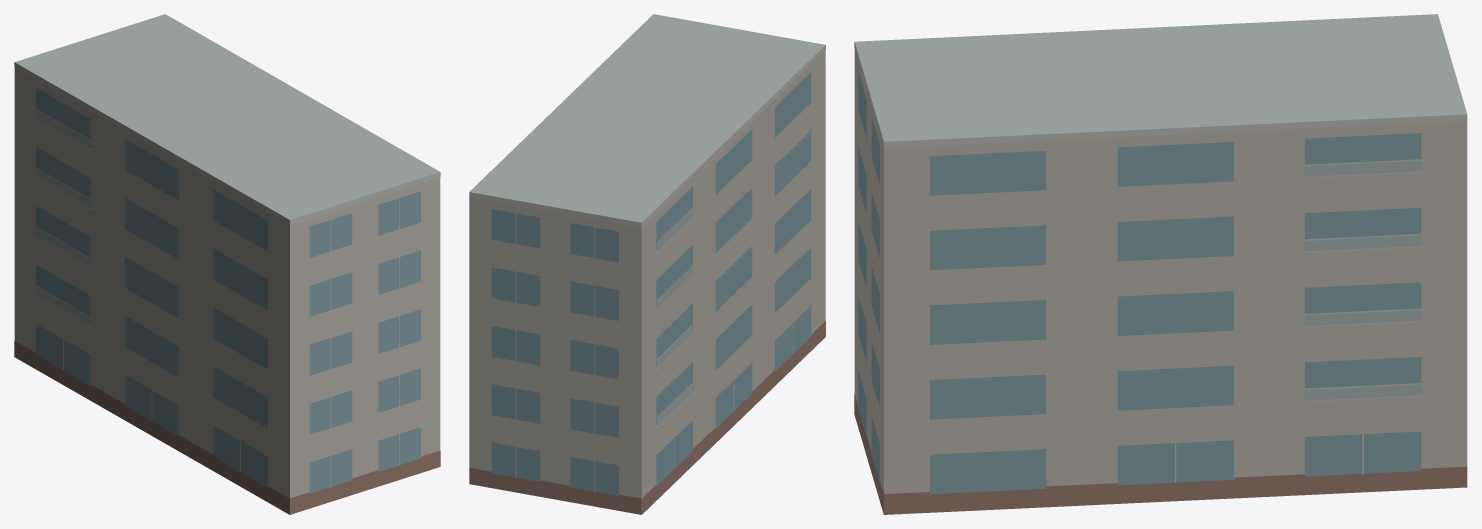
The model's file is survey-upis-32890046.glb.
3 renders of one model, left to right at view 1: azimuth 30°, elevation 25°; view 2: azimuth 150°, elevation 25°; view 3: azimuth 270°, elevation 25°, orthographic. The views are drawn at different scales.
Parts seen in each view (by area): view 1: survey-upis-32890046.tmp; view 2: survey-upis-32890046.tmp; view 3: survey-upis-32890046.tmp.
Part boxes in pixels (box(x1,y1,x2,y2)): survey-upis-32890046.tmp: box(14, 14, 440, 514); survey-upis-32890046.tmp: box(469, 14, 825, 514); survey-upis-32890046.tmp: box(854, 14, 1467, 514).
Size of the model in its own units: 10.08 by 13.7 by 20.41.
